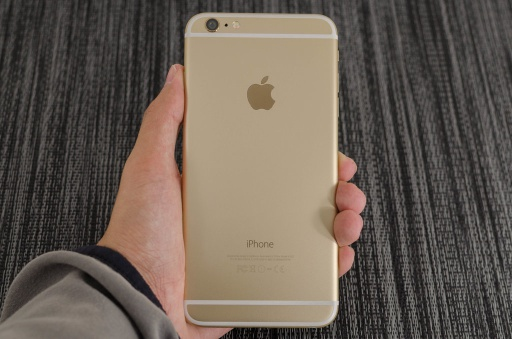apple: (225, 70, 290, 121)
